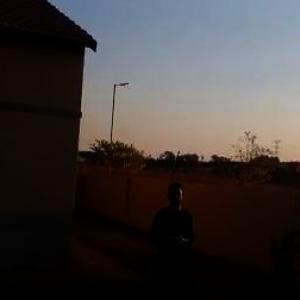follow: (144, 177, 202, 299)
